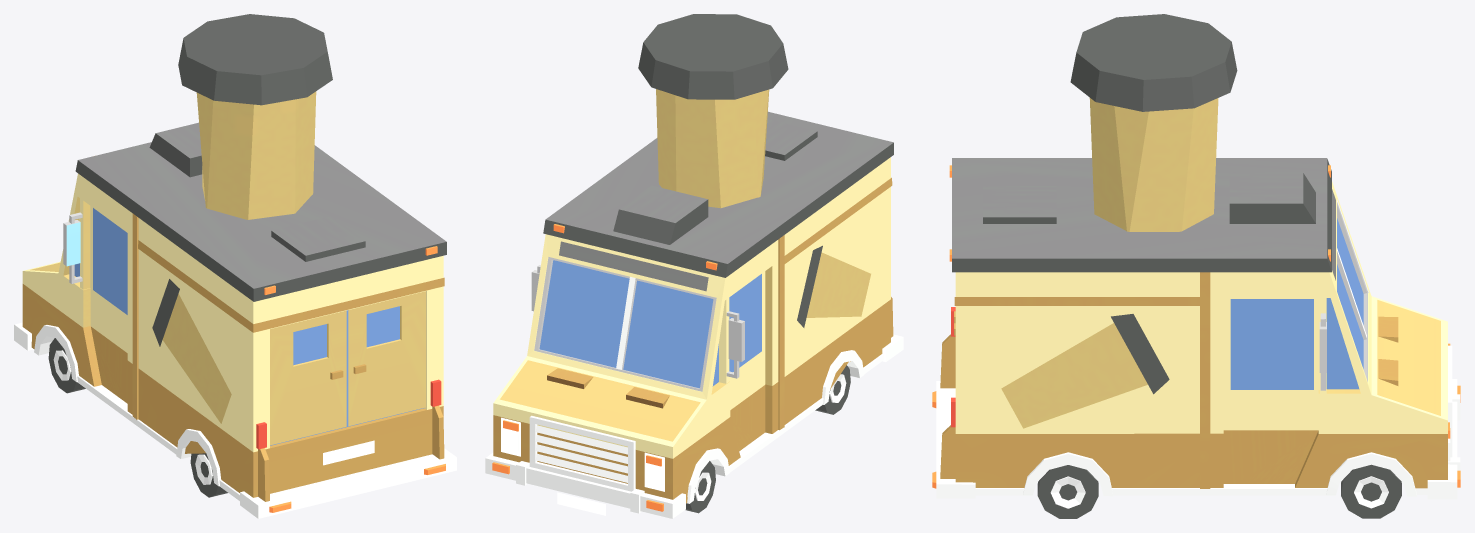
File: transport_bus.009.glb
3 views of the same model, side by side, from view 1: azimuth 30°, elevation 25°; view 2: azimuth 150°, elevation 25°; view 3: azimuth 270°, elevation 25° (orthographic). The views are drawn at different scales.
Parts seen in each view (by area): view 1: transport_bus.009(Clone); view 2: transport_bus.009(Clone); view 3: transport_bus.009(Clone).
Boxes of the visible parts, x1,y1,x2,y2 form: transport_bus.009(Clone): (14, 14, 456, 518); transport_bus.009(Clone): (485, 14, 903, 518); transport_bus.009(Clone): (932, 14, 1460, 518).
Bounding box in the file's own units: 2.02 × 3.46 × 3.9.
1 material, 1 textured.
